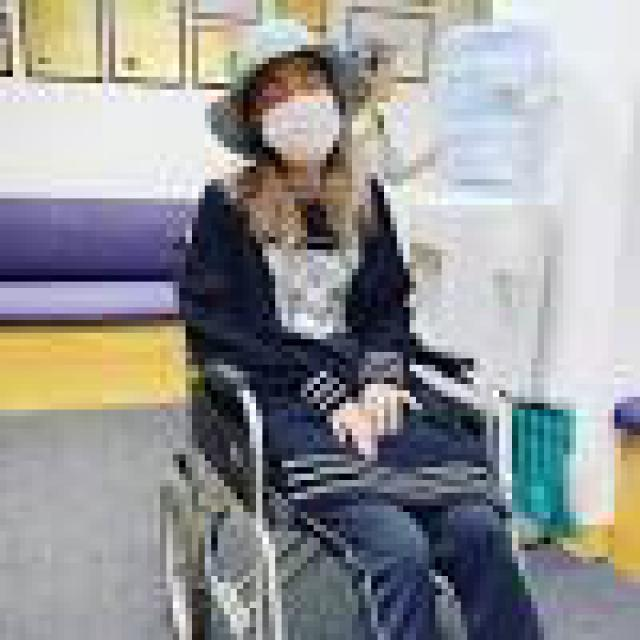wheelchairs: (160, 211, 544, 634)
